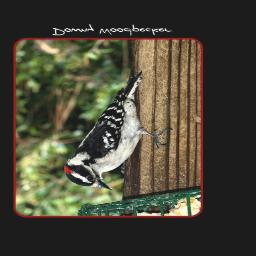Woodpecker: (63, 73, 175, 191)
